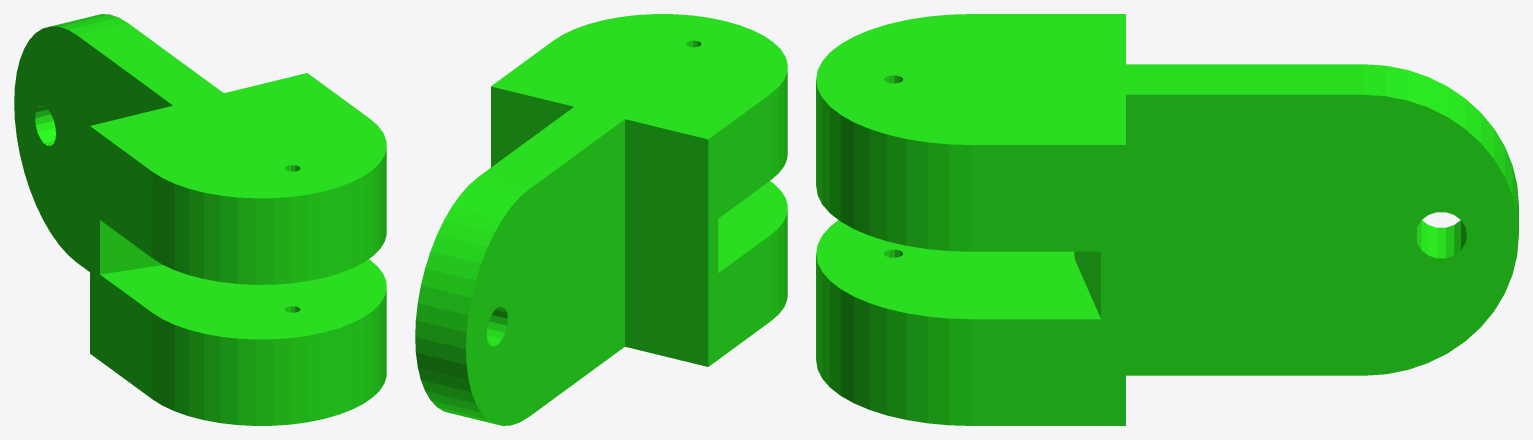
The picture shows the model from 3 angles, left to right: view 1: azimuth 30°, elevation 25°; view 2: azimuth 150°, elevation 25°; view 3: azimuth 270°, elevation 25°; orthographic projection. The views are drawn at different scales.
Parts seen in each view (by area): view 1: Sólido1; view 2: Sólido1; view 3: Sólido1.
Part boxes in pixels (x1=…): Sólido1: x1=14, y1=14, x2=386, y2=425; Sólido1: x1=415, y1=14, x2=787, y2=425; Sólido1: x1=816, y1=14, x2=1518, y2=425.
Bounding box in the file's own units: 30 × 30 × 68.
